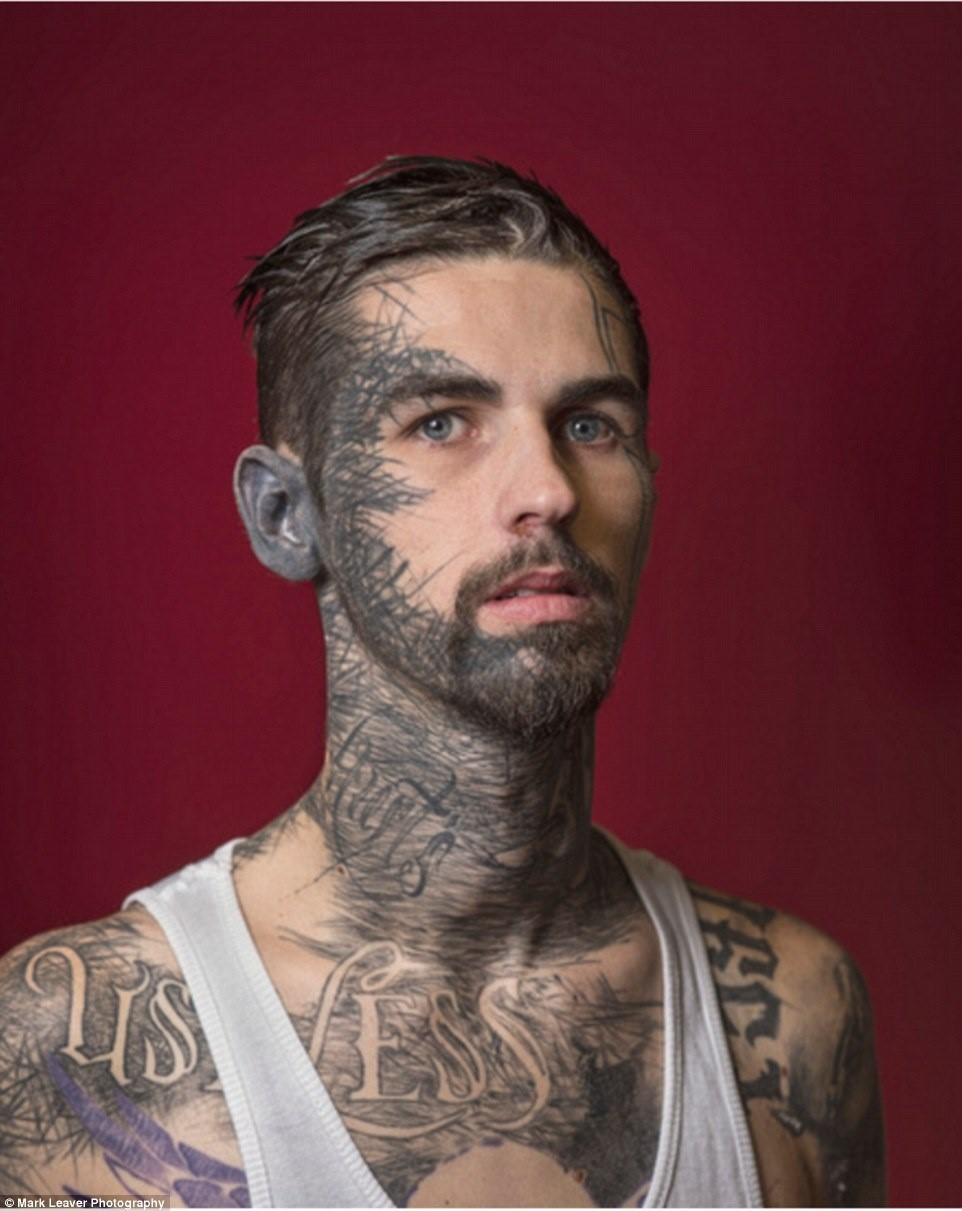face_no_mask: (235, 163, 656, 753)
